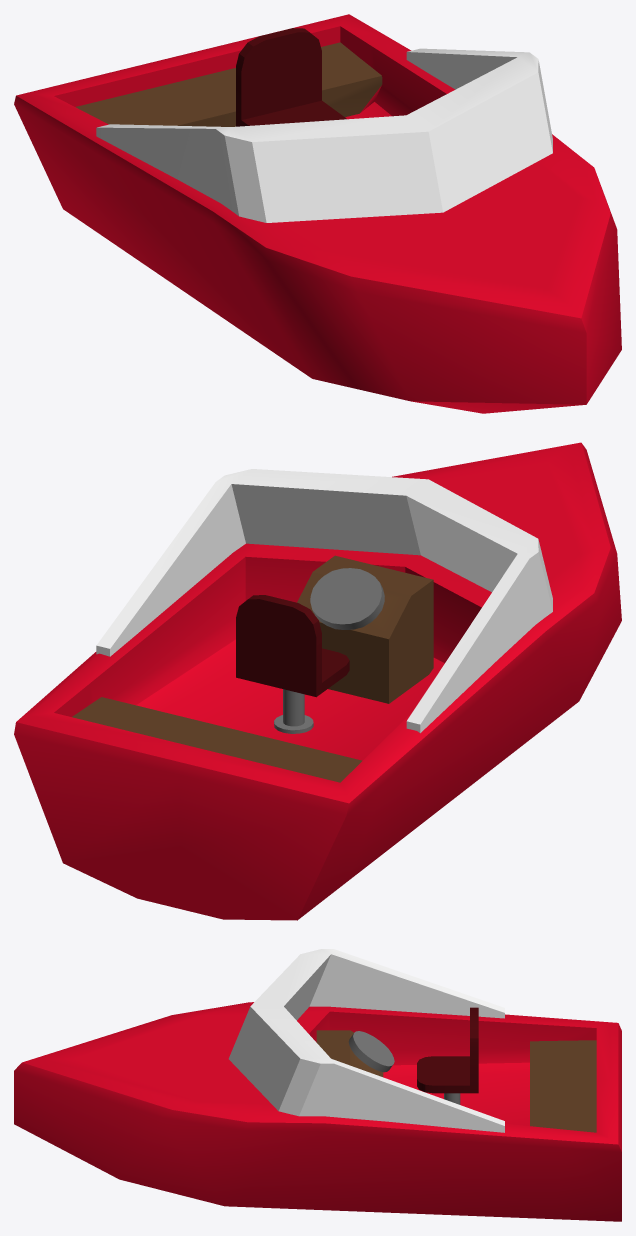
The model's file is Boat.fbx.
3 renders of one model, top to bottom at view 1: azimuth 30°, elevation 25°; view 2: azimuth 150°, elevation 25°; view 3: azimuth 270°, elevation 25°, orthographic. The views are drawn at different scales.
Visible parts, largest first — view 1: Cube, Cube.001, Cube.003, Cube.004; view 2: Cube, Cube.001, Cube.002, Cube.003, Cylinder, Cube.004; view 3: Cube, Cube.001, Cube.002, Cube.004, Cube.003.
Boxes of the visible parts, bbox=[...] form: Cube: bbox=[14, 14, 621, 413]; Cube.001: bbox=[96, 48, 552, 222]; Cube.003: bbox=[236, 28, 321, 126]; Cube.004: bbox=[241, 100, 346, 126]; Cube: bbox=[14, 442, 621, 920]; Cube.001: bbox=[96, 469, 552, 733]; Cube.002: bbox=[297, 555, 433, 703]; Cube.003: bbox=[236, 595, 321, 697]; Cylinder: bbox=[274, 689, 313, 733]; Cube.004: bbox=[322, 648, 349, 692]; Cube: bbox=[14, 1002, 621, 1221]; Cube.001: bbox=[228, 949, 504, 1132]; Cube.002: bbox=[316, 1030, 394, 1076]; Cube.004: bbox=[417, 1056, 469, 1093]; Cube.003: bbox=[470, 1007, 478, 1093].
Bounding box in the file's own units: 194 × 137 × 408.
